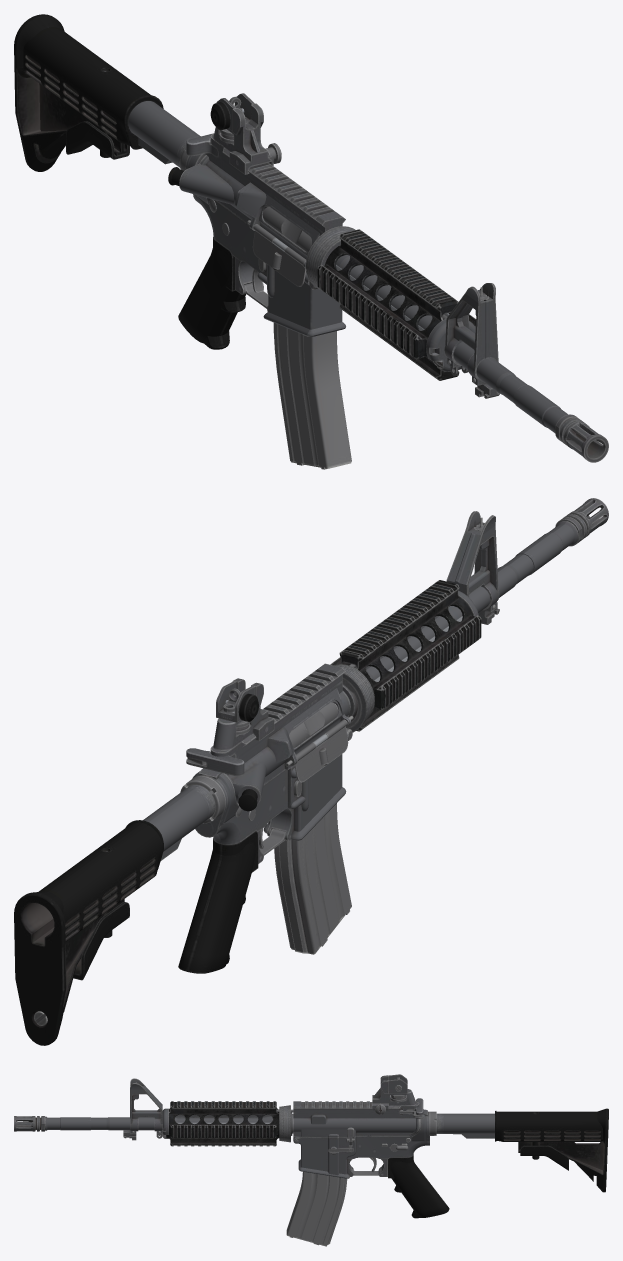
3 views of the same model, one above another, from view 1: azimuth 30°, elevation 25°; view 2: azimuth 150°, elevation 25°; view 3: azimuth 270°, elevation 25° (orthographic). The views are drawn at different scales.
Parts seen in each view (by area): view 1: base, part_low, magazine, rear sight.001, part.043_low, bolt; view 2: base, part_low, magazine, rear sight.001, part.043_low, charging handle, bolt; view 3: base, part_low, magazine, rear sight.001.
Part boxes in pixels (x1=…): base: x1=104, y1=71, x2=608, y2=462; part_low: x1=14, y1=14, x2=163, y2=171; magazine: x1=273, y1=323, x2=351, y2=469; rear sight.001: x1=210, y1=93, x2=281, y2=174; part.043_low: x1=252, y1=224, x2=306, y2=286; bolt: x1=262, y1=206, x2=311, y2=252; base: x1=106, y1=498, x2=608, y2=973; part_low: x1=14, y1=820, x2=163, y2=1045; magazine: x1=274, y1=803, x2=351, y2=954; rear sight.001: x1=213, y1=678, x2=274, y2=750; part.043_low: x1=294, y1=719, x2=348, y2=782; charging handle: x1=186, y1=748, x2=244, y2=776; bolt: x1=289, y1=702, x2=338, y2=747; base: x1=14, y1=1078, x2=494, y2=1218; part_low: x1=495, y1=1108, x2=608, y2=1192; magazine: x1=286, y1=1172, x2=347, y2=1246; rear sight.001: x1=372, y1=1074, x2=416, y2=1114.
Size of the model in its own units: 0.0693 by 0.2672 by 0.8654.
2 materials, 2 textured.
